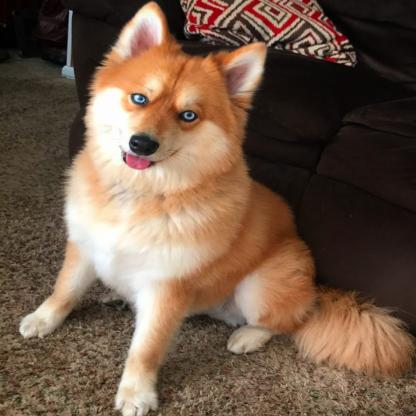dog: (16, 5, 414, 416)
